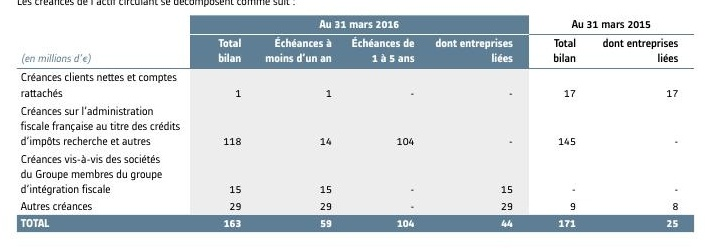table: (0, 0, 714, 250)
